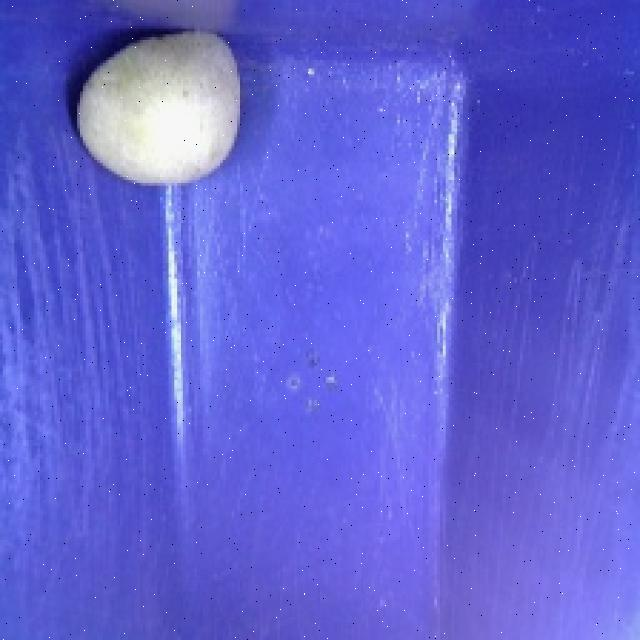potato: (48, 16, 248, 200)
